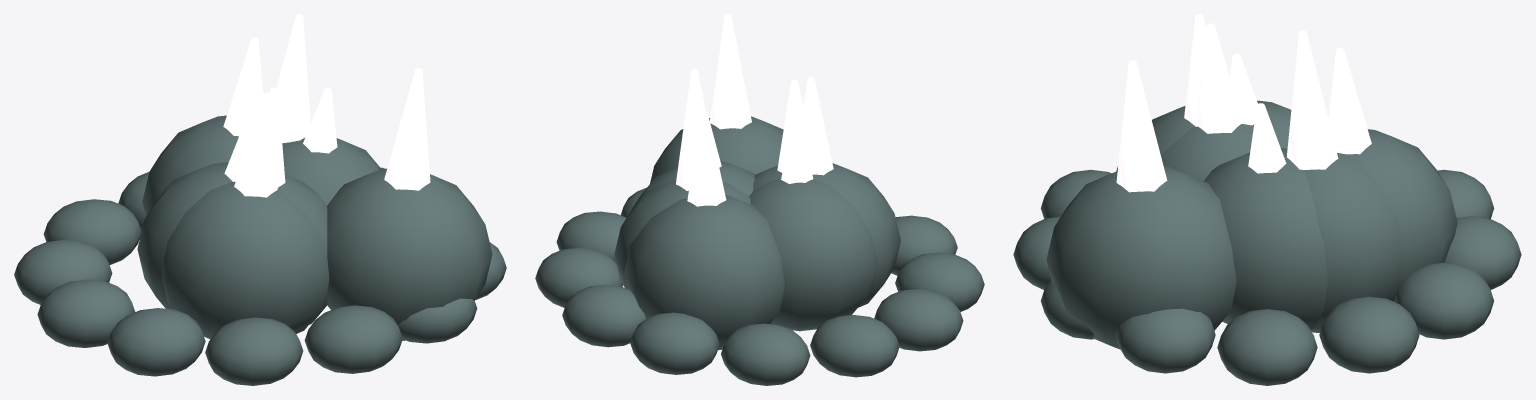
The model's file is deposit_spark.glb.
3 renders of one model, left to right at view 1: azimuth 30°, elevation 25°; view 2: azimuth 150°, elevation 25°; view 3: azimuth 270°, elevation 25°, orthographic. The views are drawn at different scales.
Parts seen in each view (by area): view 1: deposit_spark_part_0; view 2: deposit_spark_part_0; view 3: deposit_spark_part_0.
Part boxes in pixels (x1=…): deposit_spark_part_0: x1=14, y1=14, x2=506, y2=385; deposit_spark_part_0: x1=535, y1=14, x2=984, y2=385; deposit_spark_part_0: x1=1013, y1=14, x2=1521, y2=385.
Size of the model in its own units: 3.5 by 2.1 by 3.24.
